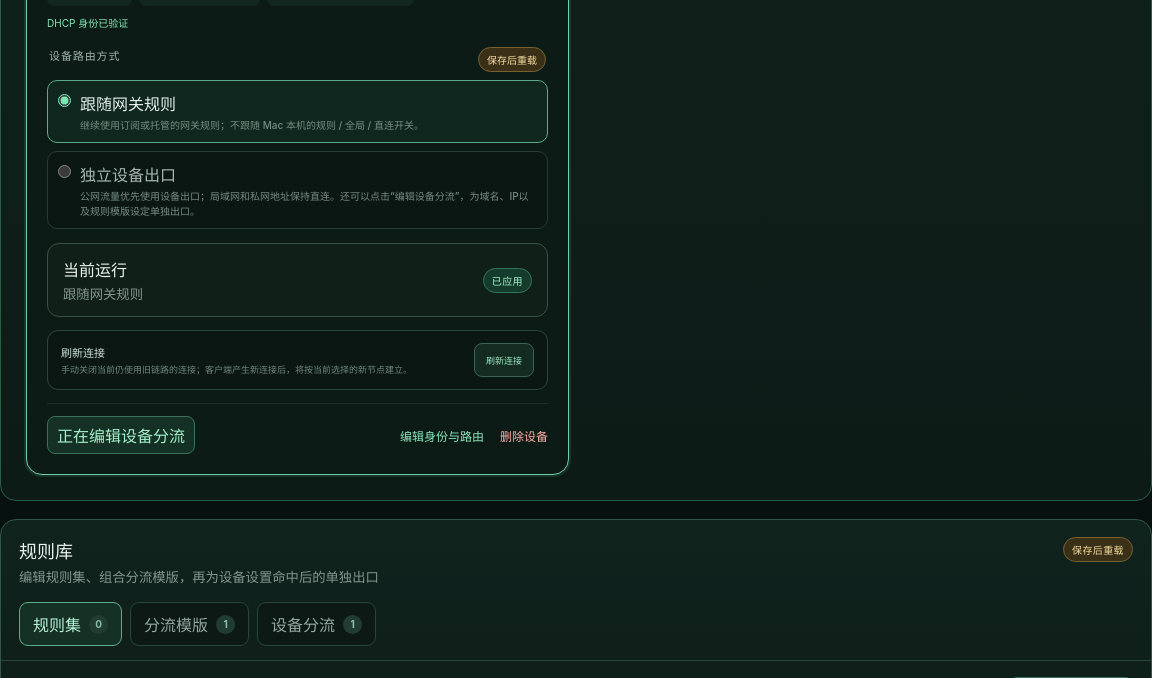
Test: DevicesPage › refreshes an applied device by its runtime device ID
(page scrolled)
Click the button with aria-label "刷新 Alice iPhone 连接" at (504, 360), box [474,343,534,377]
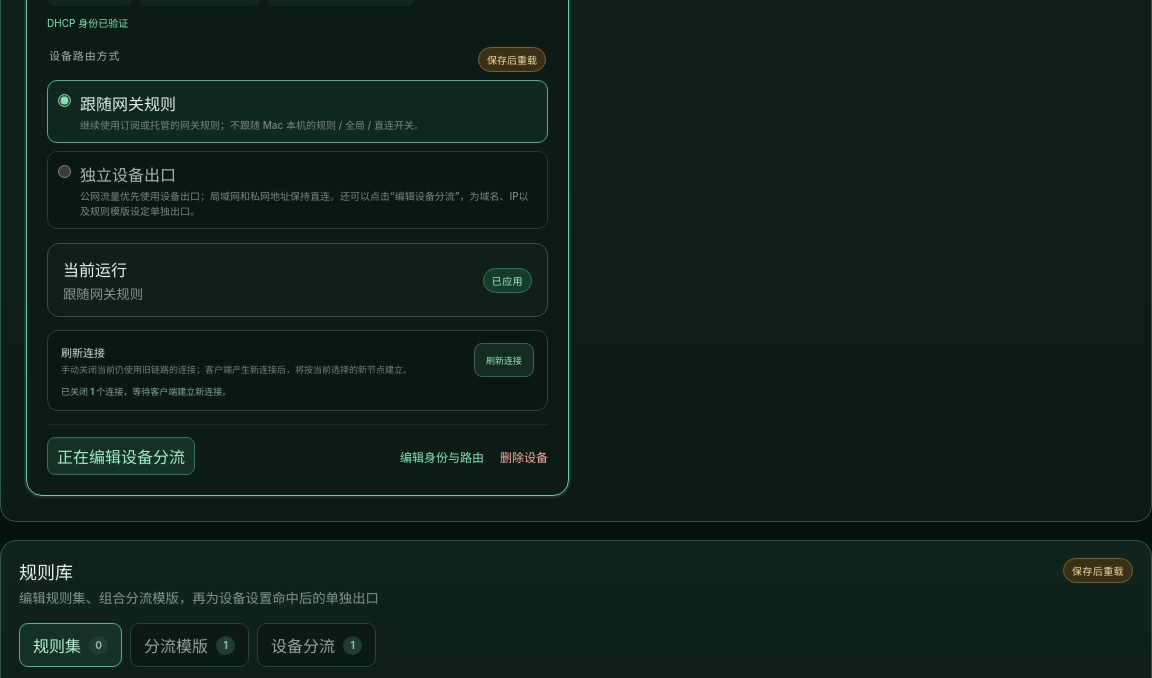
Result: the text "已关闭 1 个连接，等待客户端建立新连接。" is shown at [61,386,231,397]
